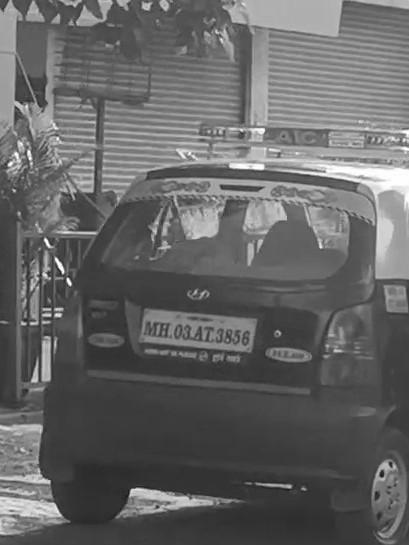number_plate: (138, 309, 255, 350)
